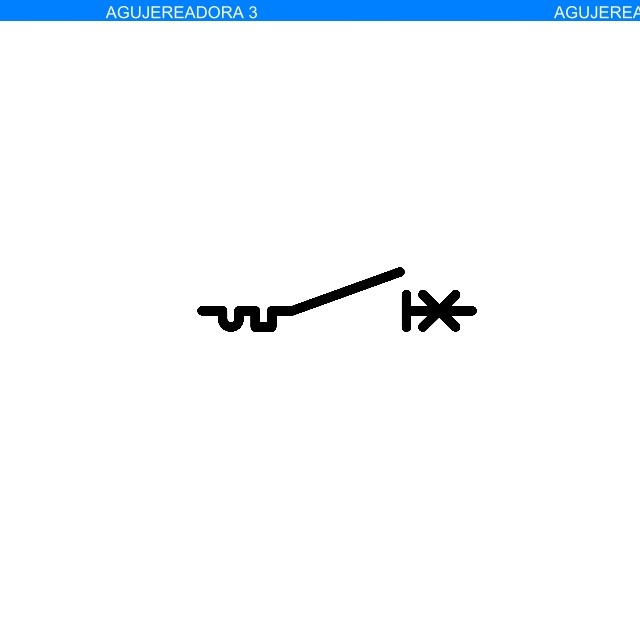interruptor_termomagnetico: (195, 265, 479, 334)
